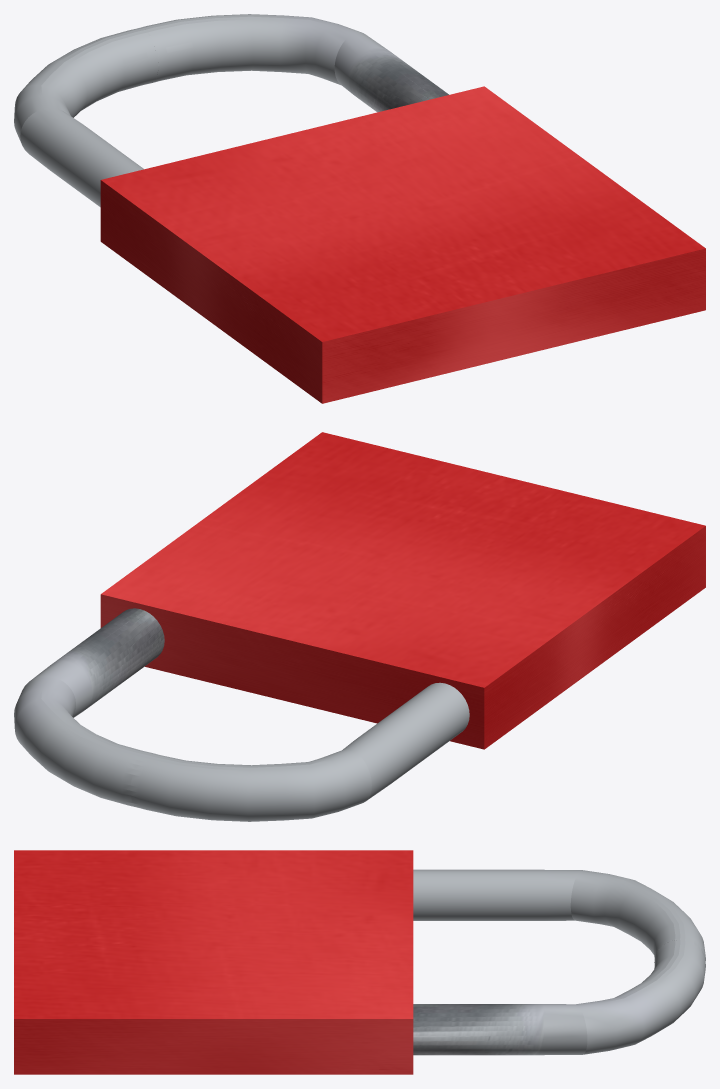
File: lock_red.fbx
The picture shows the model from 3 angles, top to bottom: view 1: azimuth 30°, elevation 25°; view 2: azimuth 150°, elevation 25°; view 3: azimuth 270°, elevation 25°; orthographic projection. The views are drawn at different scales.
Parts seen in each view (by area): view 1: Cube, Cylinder.002; view 2: Cube, Cylinder.002; view 3: Cube, Cylinder.002.
Part boxes in pixels (x1,y1,x2,y2): Cube: (100, 86, 705, 403); Cylinder.002: (14, 14, 448, 207); Cube: (100, 432, 705, 749); Cylinder.002: (14, 608, 469, 821); Cube: (14, 850, 413, 1074); Cylinder.002: (413, 869, 705, 1055).
Size of the model in its own units: 312 by 48 by 541.
